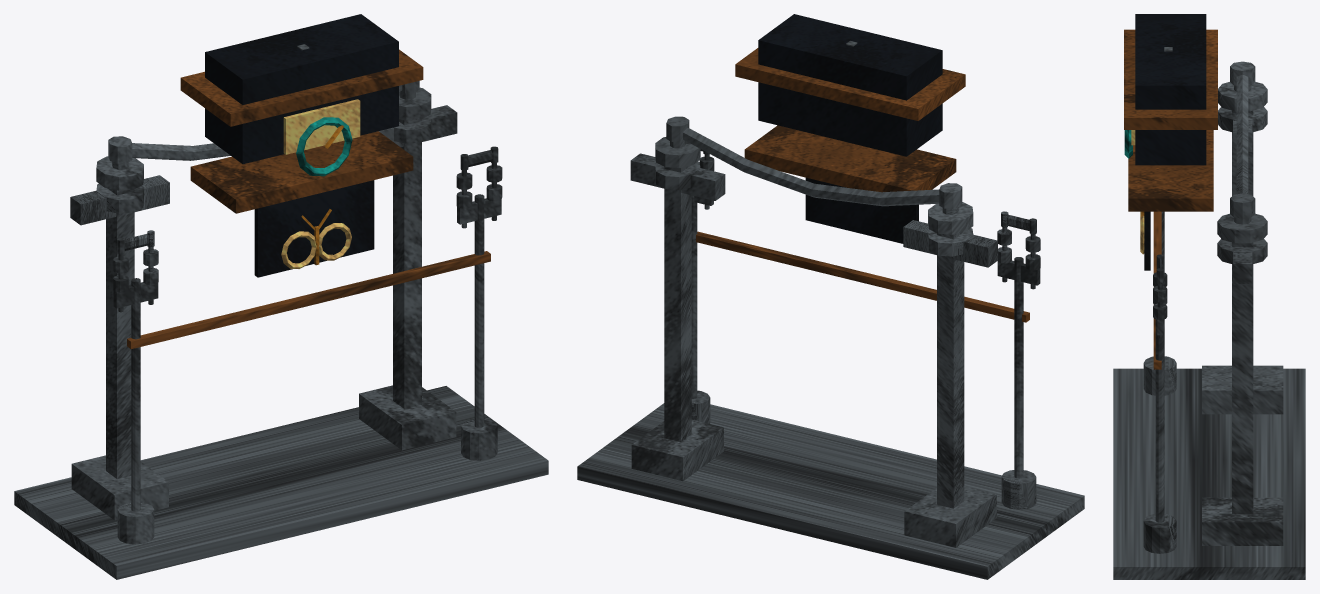
The model's file is north-migration-watch-gate.glb.
3 views of the same model, side by side, from view 1: azimuth 30°, elevation 25°; view 2: azimuth 150°, elevation 25°; view 3: azimuth 270°, elevation 25° (orthographic). The views are drawn at different scales.
Parts seen in each view (by area): view 1: north-migration-watch-gate; view 2: north-migration-watch-gate; view 3: north-migration-watch-gate.
Part boxes in pixels (x1,y1,x2,y2): north-migration-watch-gate: (14, 14, 548, 579); north-migration-watch-gate: (577, 14, 1084, 579); north-migration-watch-gate: (1113, 14, 1305, 579).
Size of the model in its own units: 7.8 by 7.92 by 3.2.
Materials: 1 (1 with a texture image).
